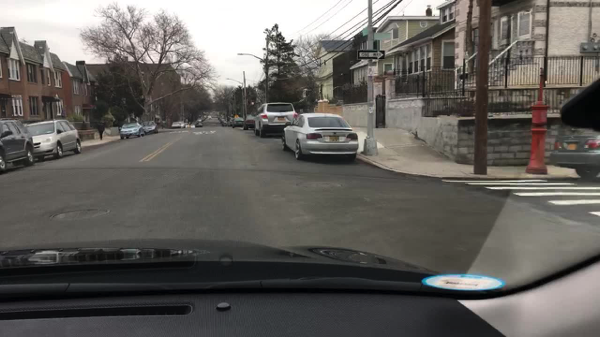car: (549, 76, 598, 181), (282, 113, 359, 162), (24, 119, 82, 162), (0, 118, 32, 176), (253, 103, 297, 138), (119, 123, 145, 140), (142, 121, 160, 133), (244, 116, 256, 131), (230, 117, 244, 129), (172, 122, 186, 129), (195, 123, 204, 128), (222, 121, 229, 127)
traffic sign: (357, 49, 386, 60)
